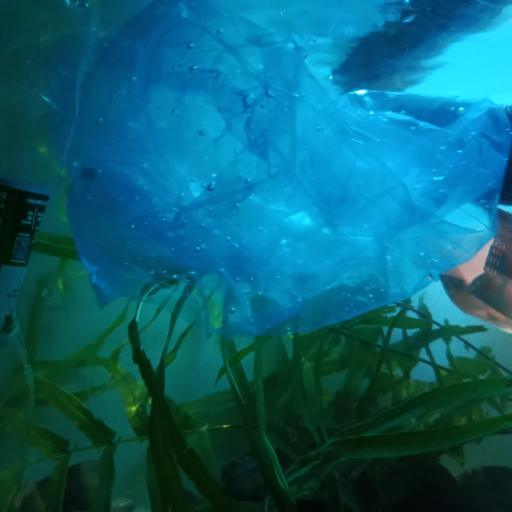mask: (435, 207, 512, 335)
plastic_bag: (57, 0, 512, 341)
plastic_bottle: (0, 0, 59, 502)
